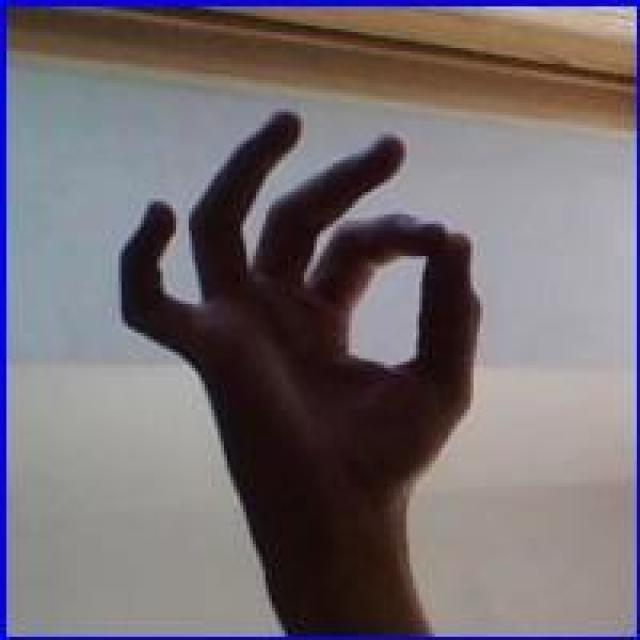F: (102, 101, 486, 520)
